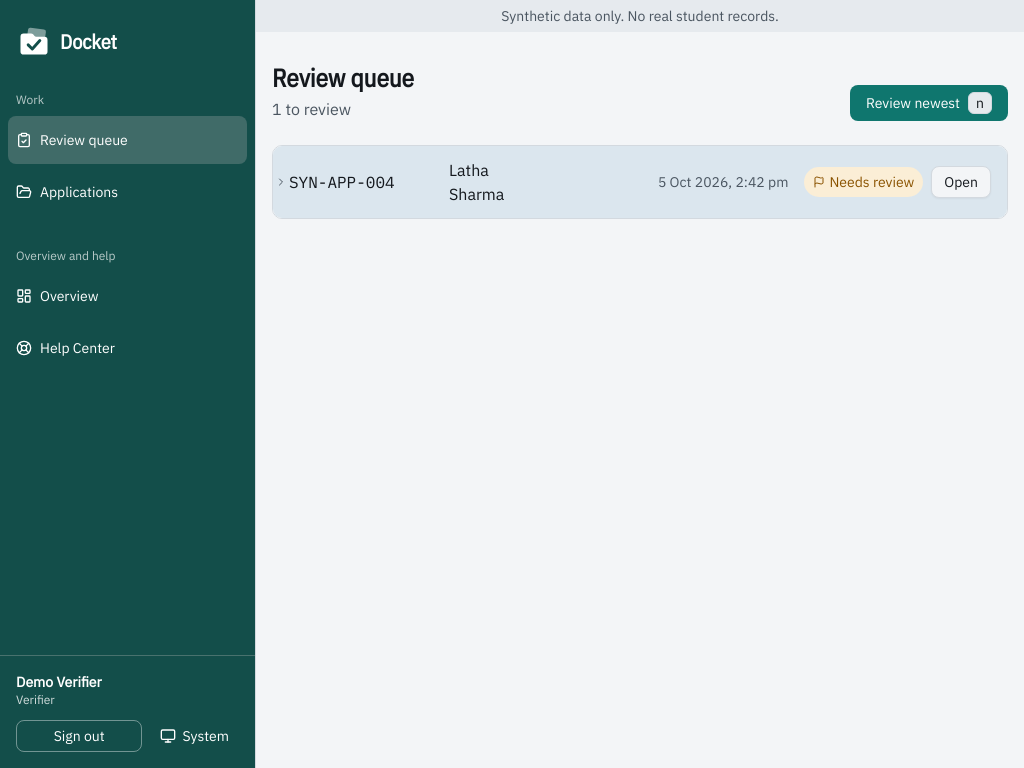
Test case: the review queue › opens an application from its row
Click the button with aria-label "Open SYN-APP-004".
click(961, 182)  # box [931, 166, 991, 198]
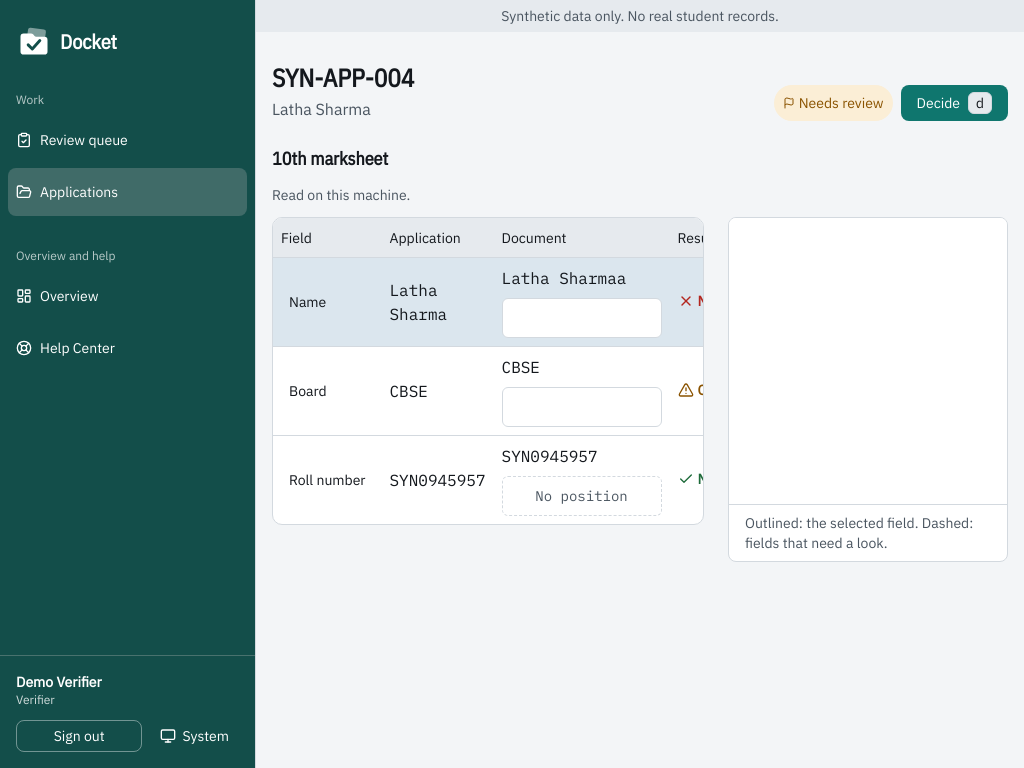
Result: the heading "SYN-APP-004" is shown at [272, 64, 414, 93]
